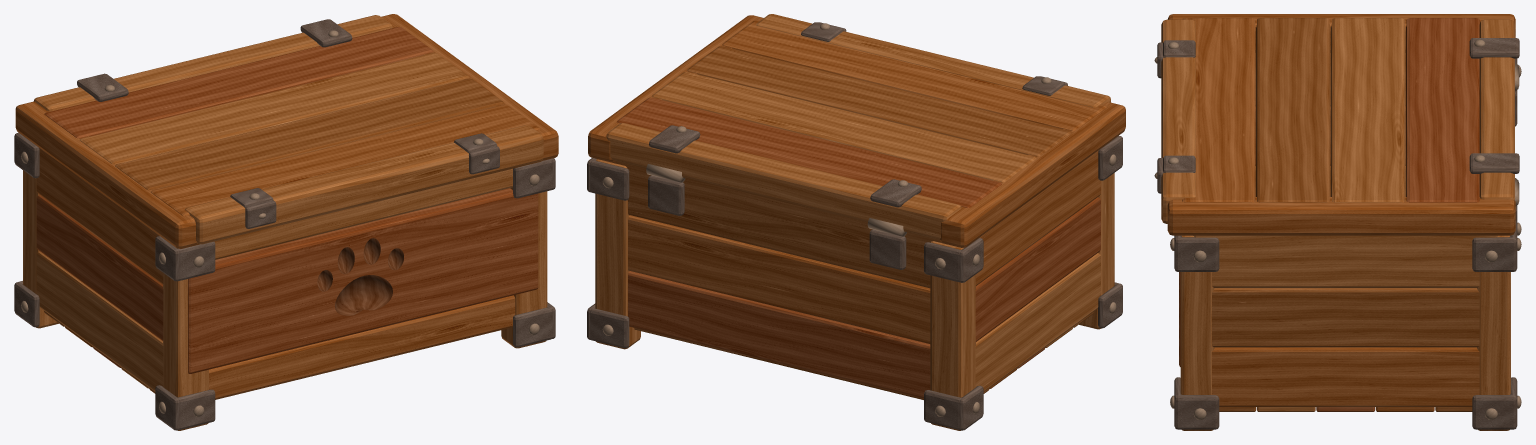
The model's file is toy-chest.glb.
The picture shows the model from 3 angles, left to right: view 1: azimuth 30°, elevation 25°; view 2: azimuth 150°, elevation 25°; view 3: azimuth 270°, elevation 25°; orthographic projection. The views are drawn at different scales.
Parts seen in each view (by area): view 1: Moving wooden lid, Open box and floorboards, Paw-carved central front board, Forged corner guards, Moving hinge leaves and straps, Guard rivets; view 2: Open box and floorboards, Moving wooden lid, Forged corner guards, Fixed hinge barrels and pins, Moving hinge leaves and straps, Guard rivets; view 3: Moving wooden lid, Open box and floorboards, Forged corner guards, Moving hinge leaves and straps, Guard rivets, Fixed hinge barrels and pins.
Part boxes in pixels (x1,y1,x2,y2): Moving wooden lid: [15, 14, 558, 248]; Open box and floorboards: [23, 148, 547, 430]; Paw-carved central front board: [188, 188, 538, 373]; Forged corner guards: [14, 132, 555, 430]; Moving hinge leaves and straps: [77, 19, 499, 228]; Guard rivets: [21, 151, 539, 416]; Open box and floorboards: [595, 150, 1114, 430]; Moving wooden lid: [588, 14, 1125, 247]; Forged corner guards: [587, 136, 1122, 430]; Fixed hinge barrels and pins: [646, 164, 906, 269]; Moving hinge leaves and straps: [649, 22, 1067, 207]; Guard rivets: [602, 154, 1116, 416]; Moving wooden lid: [1161, 14, 1515, 235]; Open box and floorboards: [1180, 53, 1510, 430]; Forged corner guards: [1174, 58, 1517, 429]; Moving hinge leaves and straps: [1154, 38, 1519, 193]; Guard rivets: [1170, 65, 1521, 419]; Fixed hinge barrels and pins: [1515, 62, 1519, 222].
Bounding box in the file's own units: 0.568 × 0.3165 × 0.4412.
Materials: 7 (7 with a texture image).
